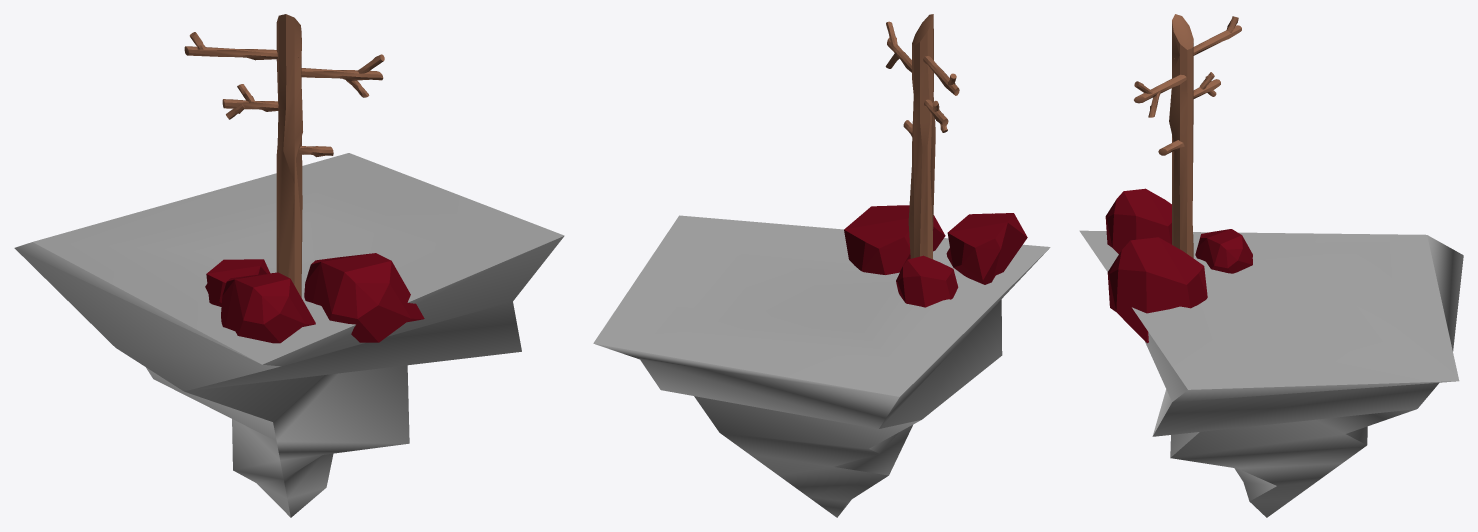
File: PoeticLandscape.fbx
The picture shows the model from 3 angles, left to right: view 1: azimuth 30°, elevation 25°; view 2: azimuth 150°, elevation 25°; view 3: azimuth 270°, elevation 25°; orthographic projection. The views are drawn at different scales.
Visible parts, largest first — view 1: pPyramid1, pSphere3, polySurface1, pSphere2, pSphere1, polySurface2, polySurface5; view 2: pPyramid1, polySurface1, pSphere2, pSphere3, pSphere1; view 3: pPyramid1, pSphere3, polySurface1, pSphere2, pSphere1, polySurface5, polySurface2.
Part boxes in pixels (x1,y1,x2,y2): pPyramid1: (14,153,564,517); pSphere3: (304,253,424,342); polySurface1: (276,14,302,297); pSphere2: (221,272,315,343); pSphere1: (205,259,269,306); polySurface2: (184,46,298,60); polySurface5: (301,68,383,80); pPyramid1: (593,215,1050,517); polySurface1: (908,14,935,259); pSphere2: (946,213,1027,284); pSphere3: (844,205,945,274); pSphere1: (896,255,958,307); pPyramid1: (1079,230,1463,517); pSphere3: (1107,237,1207,343); polySurface1: (1169,14,1193,258); pSphere2: (1105,188,1171,253); pSphere1: (1195,229,1252,273); polySurface5: (1134,74,1186,103); polySurface2: (1174,25,1241,58).
Size of the model in its own units: 12.49 by 16.89 by 12.28.
